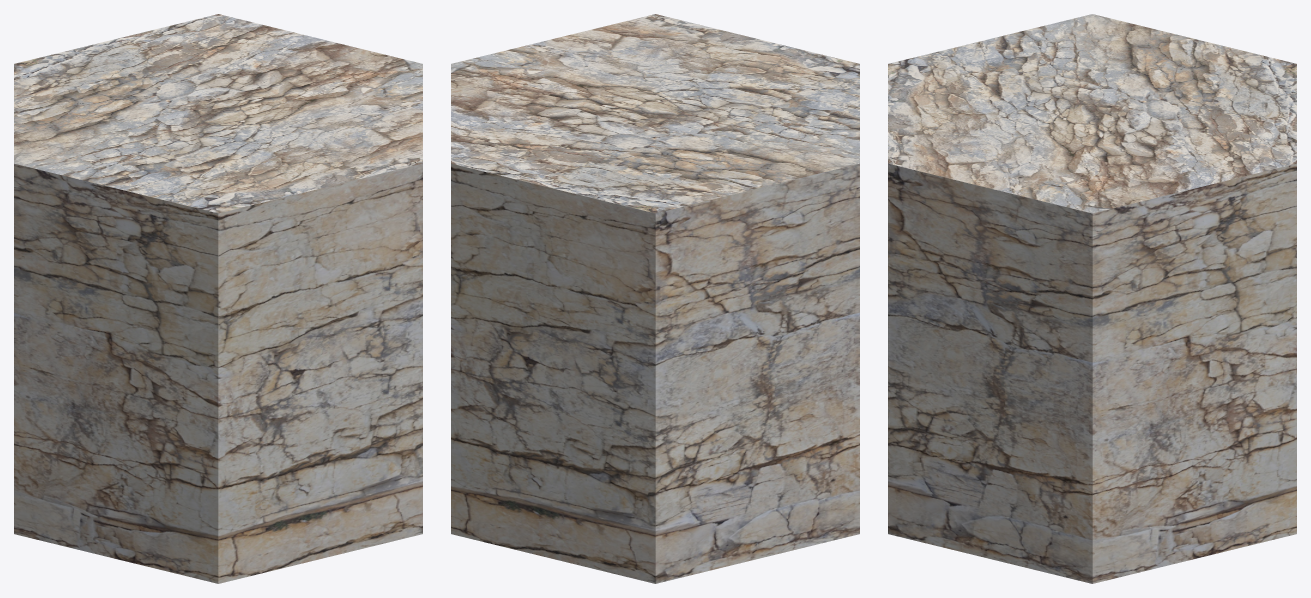
The model's file is sandWall_HEX_01.fbx.
The picture shows the model from 3 angles, left to right: view 1: azimuth 30°, elevation 25°; view 2: azimuth 150°, elevation 25°; view 3: azimuth 270°, elevation 25°; orthographic projection.
Parts seen in each view (by area): view 1: polySurface1; view 2: polySurface1; view 3: polySurface1.
Part boxes in pixels (x1,y1,x2,y2): polySurface1: (14,14,422,583); polySurface1: (451,14,859,583); polySurface1: (888,14,1296,583).
Bounding box in the file's own units: 2.31 × 2 × 2.
2 materials, 2 textured.
